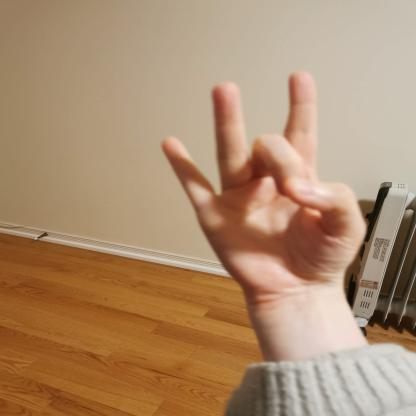eight: (153, 64, 370, 312)
